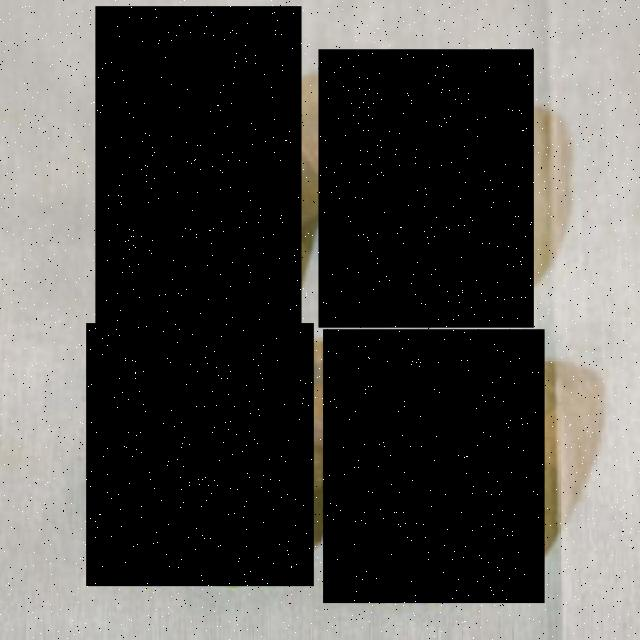Capsicum: (96, 6, 302, 337), (323, 329, 545, 603), (319, 49, 535, 328), (86, 323, 314, 586)
